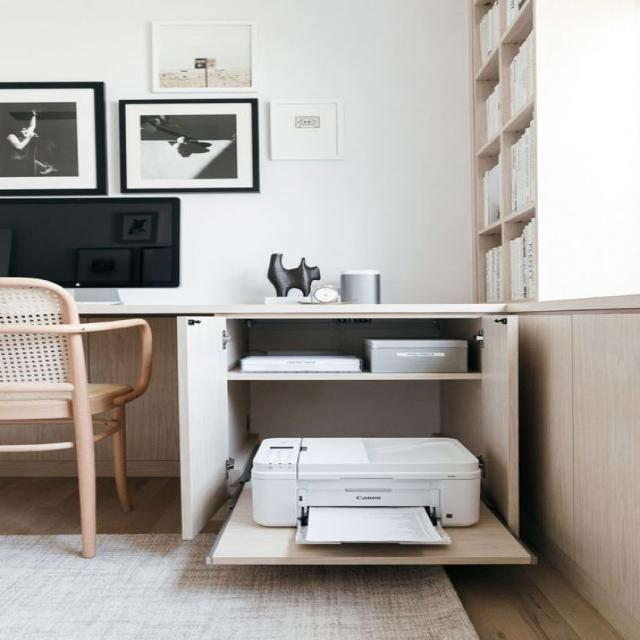printer: (248, 436, 482, 544)
